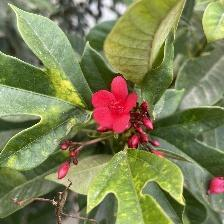jatropha: (92, 77, 140, 139)
